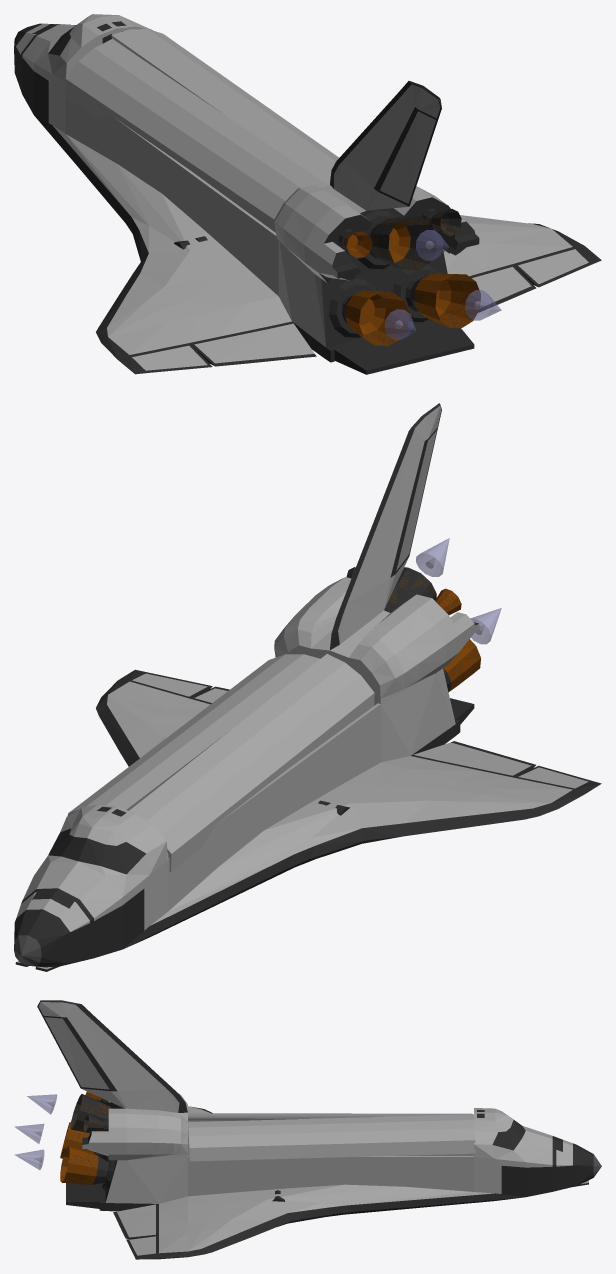
Rendered from shuttle-F.obj.
3 renders of one model, top to bottom at view 1: azimuth 30°, elevation 25°; view 2: azimuth 150°, elevation 25°; view 3: azimuth 270°, elevation 25°, orthographic. The views are drawn at different scales.
Visible parts, largest first — view 1: ShapeIndexedFaceSet.026_ShapeIndexedFaceSet.027, ShapeIndexedFaceSet.061_ShapeIndexedFaceSet.062, ShapeIndexedFaceSet_ShapeIndexedFaceSet.001, ShapeIndexedFaceSet.062_ShapeIndexedFaceSet.063, ShapeIndexedFaceSet.001_ShapeIndexedFaceSet.002, ShapeIndexedFaceSet.022_ShapeIndexedFaceSet.023, ShapeIndexedFaceSet.012_ShapeIndexedFaceSet.013, ShapeIndexedFaceSet.003_ShapeIndexedFaceSet.004, ShapeIndexedFaceSet.014_ShapeIndexedFaceSet.015, ShapeIndexedFaceSet.038_ShapeIndexedFaceSet.039, ShapeIndexedFaceSet.004_ShapeIndexedFaceSet.005, ShapeIndexedFaceSet.034_ShapeIndexedFaceSet.035 (+20 smaller); view 2: ShapeIndexedFaceSet_ShapeIndexedFaceSet.001, ShapeIndexedFaceSet.026_ShapeIndexedFaceSet.027, ShapeIndexedFaceSet.061_ShapeIndexedFaceSet.062, ShapeIndexedFaceSet.012_ShapeIndexedFaceSet.013, ShapeIndexedFaceSet.001_ShapeIndexedFaceSet.002, ShapeIndexedFaceSet.062_ShapeIndexedFaceSet.063, ShapeIndexedFaceSet.027_ShapeIndexedFaceSet.028, ShapeIndexedFaceSet.022_ShapeIndexedFaceSet.023, ShapeIndexedFaceSet.014_ShapeIndexedFaceSet.015, ShapeIndexedFaceSet.023_ShapeIndexedFaceSet.024, ShapeIndexedFaceSet.004_ShapeIndexedFaceSet.005, ShapeIndexedFaceSet.065_ShapeIndexedFaceSet.066 (+5 smaller); view 3: ShapeIndexedFaceSet_ShapeIndexedFaceSet.001, ShapeIndexedFaceSet.062_ShapeIndexedFaceSet.063, ShapeIndexedFaceSet.026_ShapeIndexedFaceSet.027, ShapeIndexedFaceSet.001_ShapeIndexedFaceSet.002, ShapeIndexedFaceSet.024_ShapeIndexedFaceSet.025, ShapeIndexedFaceSet.012_ShapeIndexedFaceSet.013, ShapeIndexedFaceSet.014_ShapeIndexedFaceSet.015, ShapeIndexedFaceSet.027_ShapeIndexedFaceSet.028, ShapeIndexedFaceSet.018_ShapeIndexedFaceSet.019, ShapeIndexedFaceSet.025_ShapeIndexedFaceSet.026, ShapeIndexedFaceSet.038_ShapeIndexedFaceSet.039, ShapeIndexedFaceSet.061_ShapeIndexedFaceSet.062 (+7 smaller).
Boxes of the visible parts, bbox=[...] form: ShapeIndexedFaceSet.026_ShapeIndexedFaceSet.027: bbox=[53, 126, 572, 354]; ShapeIndexedFaceSet.061_ShapeIndexedFaceSet.062: bbox=[65, 39, 327, 232]; ShapeIndexedFaceSet_ShapeIndexedFaceSet.001: bbox=[16, 14, 465, 295]; ShapeIndexedFaceSet.062_ShapeIndexedFaceSet.063: bbox=[111, 29, 338, 184]; ShapeIndexedFaceSet.001_ShapeIndexedFaceSet.002: bbox=[14, 21, 479, 362]; ShapeIndexedFaceSet.022_ShapeIndexedFaceSet.023: bbox=[334, 84, 440, 210]; ShapeIndexedFaceSet.012_ShapeIndexedFaceSet.013: bbox=[274, 185, 446, 282]; ShapeIndexedFaceSet.003_ShapeIndexedFaceSet.004: bbox=[330, 321, 474, 374]; ShapeIndexedFaceSet.014_ShapeIndexedFaceSet.015: bbox=[278, 240, 326, 347]; ShapeIndexedFaceSet.038_ShapeIndexedFaceSet.039: bbox=[414, 273, 480, 327]; ShapeIndexedFaceSet.004_ShapeIndexedFaceSet.005: bbox=[194, 323, 314, 363]; ShapeIndexedFaceSet.034_ShapeIndexedFaceSet.035: bbox=[345, 290, 409, 346]; ShapeIndexedFaceSet_ShapeIndexedFaceSet.001: bbox=[16, 610, 479, 931]; ShapeIndexedFaceSet.026_ShapeIndexedFaceSet.027: bbox=[107, 681, 572, 925]; ShapeIndexedFaceSet.061_ShapeIndexedFaceSet.062: bbox=[129, 654, 374, 871]; ShapeIndexedFaceSet.012_ShapeIndexedFaceSet.013: bbox=[274, 577, 459, 698]; ShapeIndexedFaceSet.001_ShapeIndexedFaceSet.002: bbox=[14, 622, 478, 967]; ShapeIndexedFaceSet.062_ShapeIndexedFaceSet.063: bbox=[69, 654, 320, 812]; ShapeIndexedFaceSet.027_ShapeIndexedFaceSet.028: bbox=[96, 680, 584, 948]; ShapeIndexedFaceSet.022_ShapeIndexedFaceSet.023: bbox=[338, 405, 441, 644]; ShapeIndexedFaceSet.014_ShapeIndexedFaceSet.015: bbox=[380, 668, 455, 762]; ShapeIndexedFaceSet.023_ShapeIndexedFaceSet.024: bbox=[330, 403, 441, 649]; ShapeIndexedFaceSet.004_ShapeIndexedFaceSet.005: bbox=[413, 742, 531, 775]; ShapeIndexedFaceSet.065_ShapeIndexedFaceSet.066: bbox=[128, 648, 380, 859]; ShapeIndexedFaceSet_ShapeIndexedFaceSet.001: bbox=[82, 1108, 572, 1196]; ShapeIndexedFaceSet.062_ShapeIndexedFaceSet.063: bbox=[188, 1114, 475, 1161]; ShapeIndexedFaceSet.026_ShapeIndexedFaceSet.027: bbox=[159, 1106, 494, 1253]; ShapeIndexedFaceSet.001_ShapeIndexedFaceSet.002: bbox=[82, 1102, 593, 1259]; ShapeIndexedFaceSet.024_ShapeIndexedFaceSet.025: bbox=[38, 1002, 179, 1112]; ShapeIndexedFaceSet.012_ShapeIndexedFaceSet.013: bbox=[108, 1093, 187, 1160]; ShapeIndexedFaceSet.014_ShapeIndexedFaceSet.015: bbox=[105, 1153, 187, 1203]; ShapeIndexedFaceSet.027_ShapeIndexedFaceSet.028: bbox=[159, 1106, 524, 1258]; ShapeIndexedFaceSet.018_ShapeIndexedFaceSet.019: bbox=[44, 1017, 109, 1089]; ShapeIndexedFaceSet.025_ShapeIndexedFaceSet.026: bbox=[37, 1000, 187, 1112]; ShapeIndexedFaceSet.038_ShapeIndexedFaceSet.039: bbox=[60, 1146, 98, 1184]; ShapeIndexedFaceSet.061_ShapeIndexedFaceSet.062: bbox=[188, 1113, 472, 1116].
Size of the model in its own units: 238 by 141 by 386.
